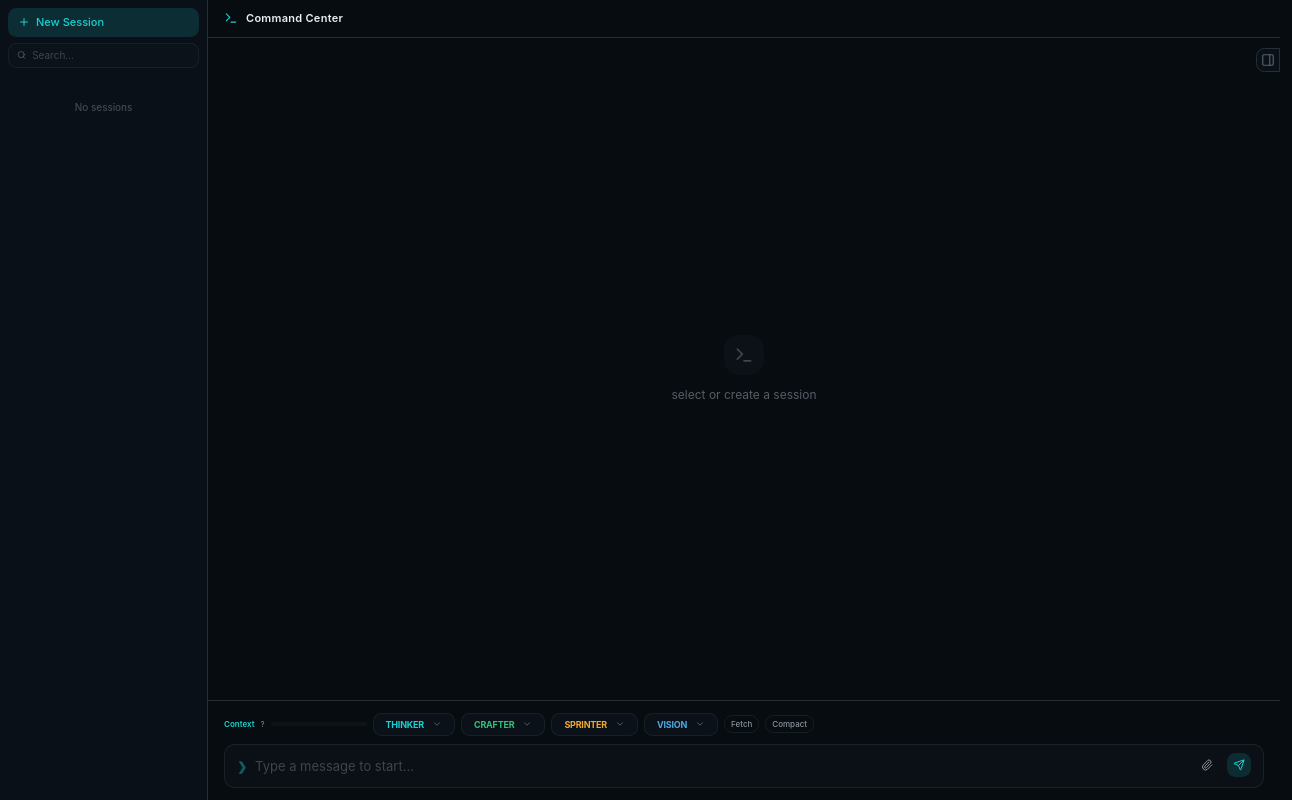
M1 — clarify releases the send lock › unlocks the composer and renders the clarify block when the backend asks for details
Check: the button named "Send message" is shown, box [1227,753,1251,777]
Type "build me a thing" into the text box with placeholder "Type a message to start…" at (721, 766), box [255,754,1187,779]
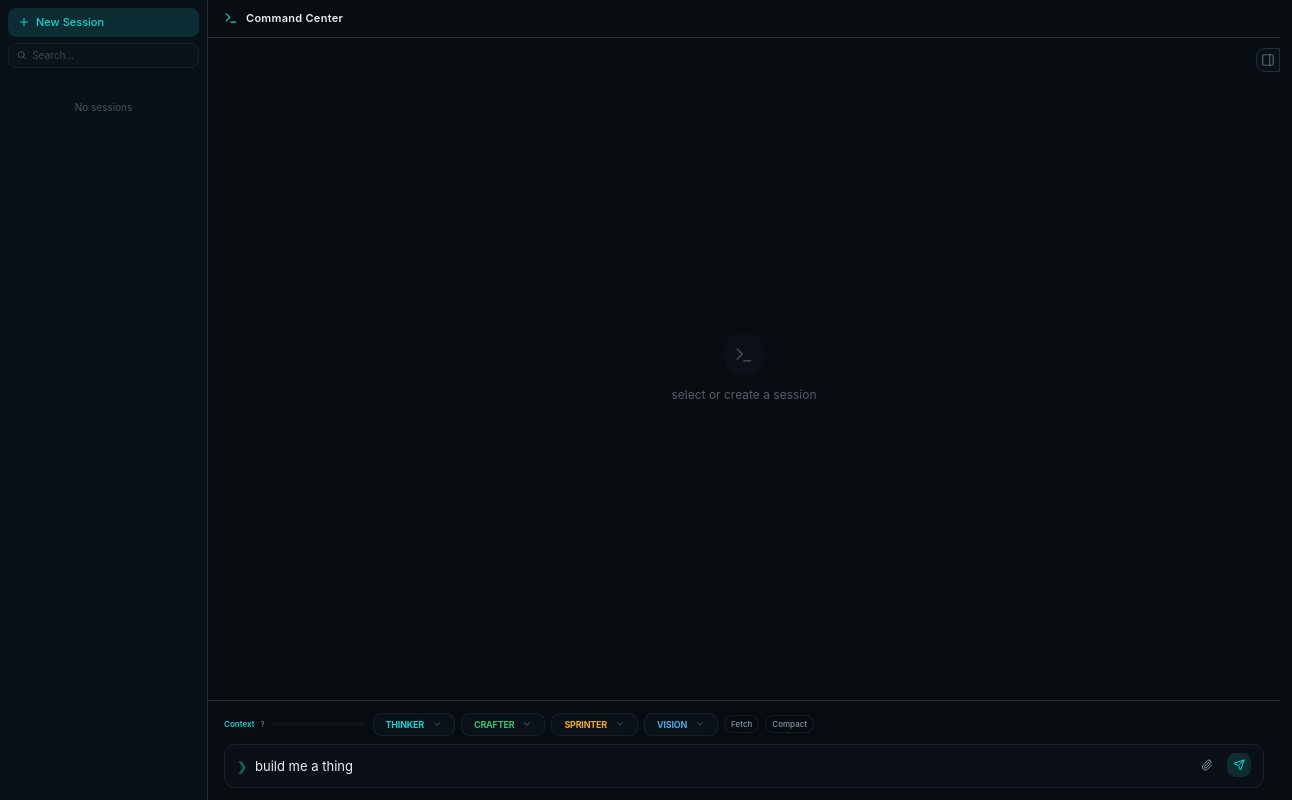
Click the button named "Send message" at (1239, 765), box [1227,753,1251,777]
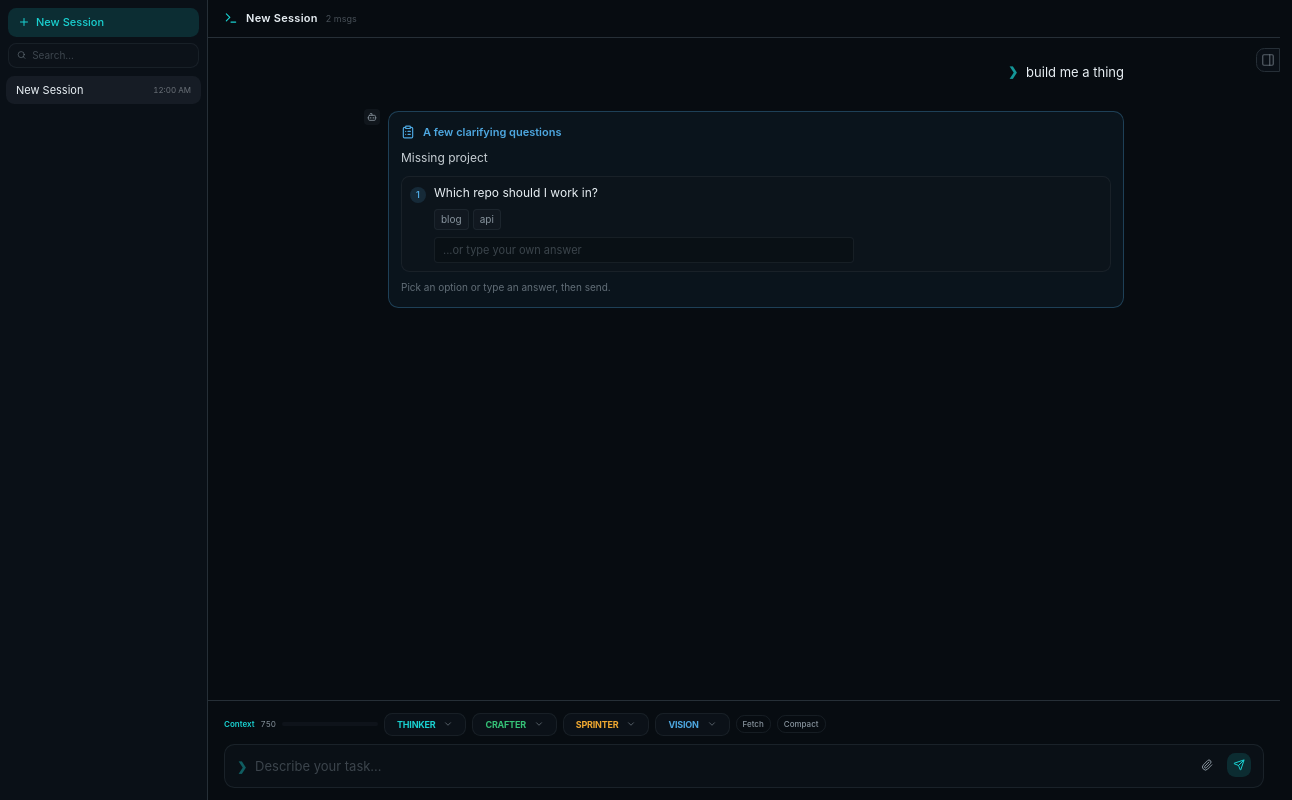
Check: the text "Which repo should I work in?" is shown, box [434,185,598,201]
